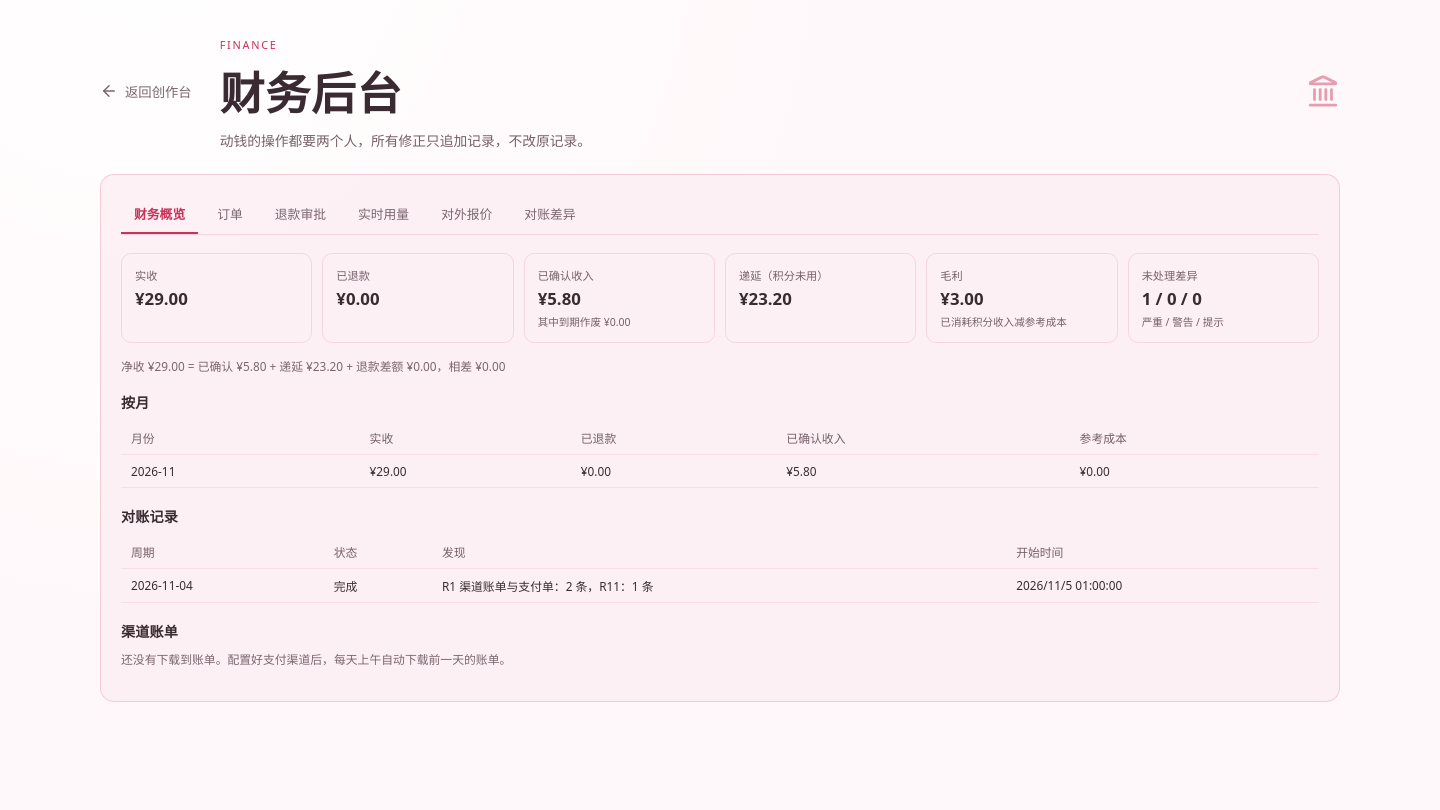
Test: FinanceConsolePage › writes order amounts the way every other amount is written, and names the rules a run found
The width and height of the screenshot is (1440, 810).
Expected: the text "R1 渠道账单与支付单：2 条，R11：1 条" is shown, 432,568 -> 1006,602
Click the tab "订单". click: (230, 214)
box: 204,195 -> 256,234
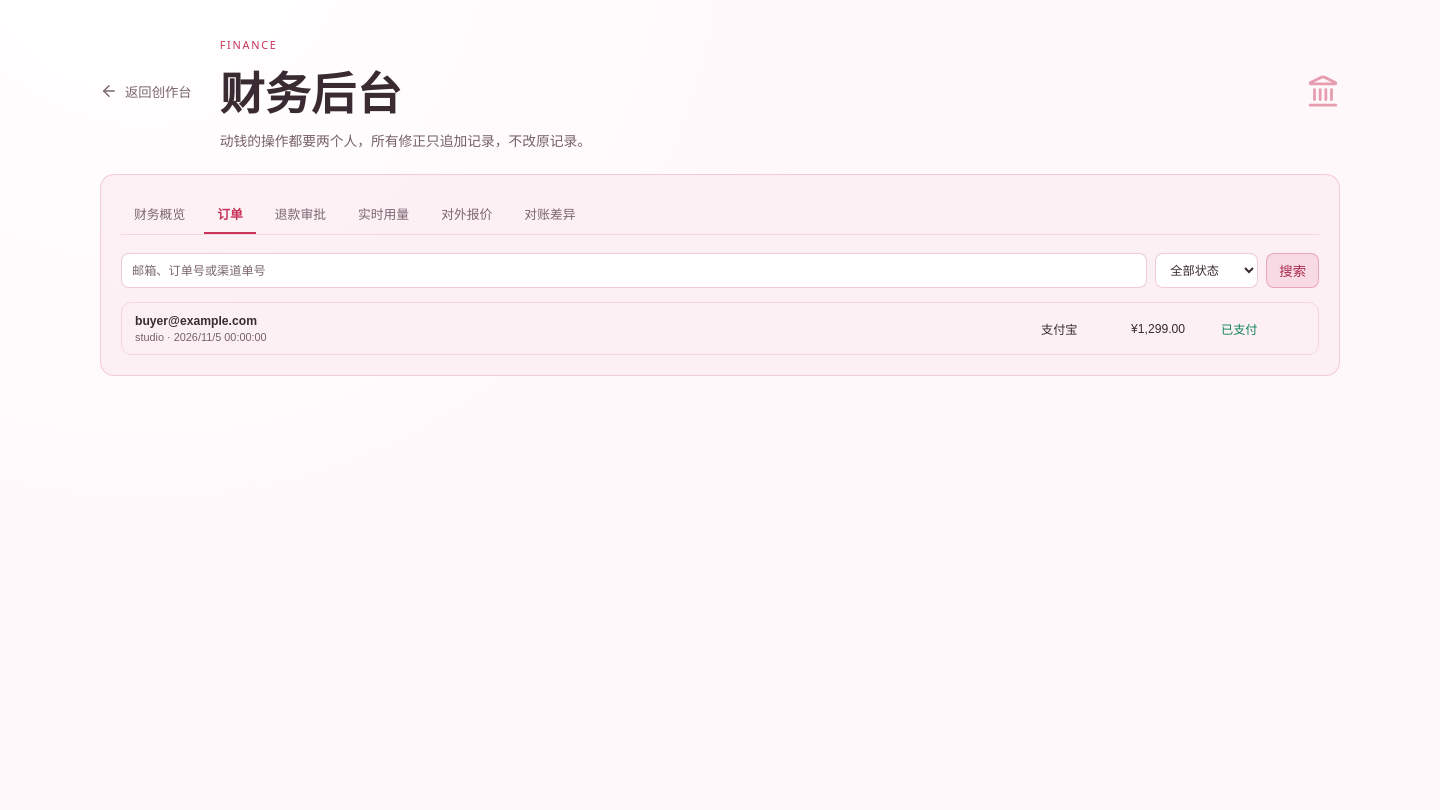
Result: the text "¥1,299.00" is shown at 1131,322 -> 1185,336
